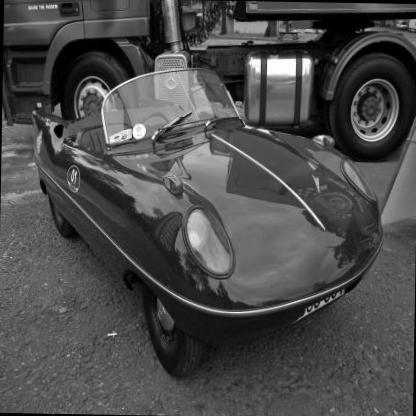car: (27, 63, 392, 387)
